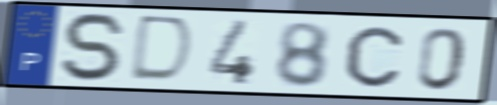0: (415, 26, 470, 92)
4: (206, 17, 257, 87)
8: (272, 20, 330, 90)
C: (344, 24, 406, 90)
D: (125, 13, 198, 86)
S: (59, 10, 131, 84)
